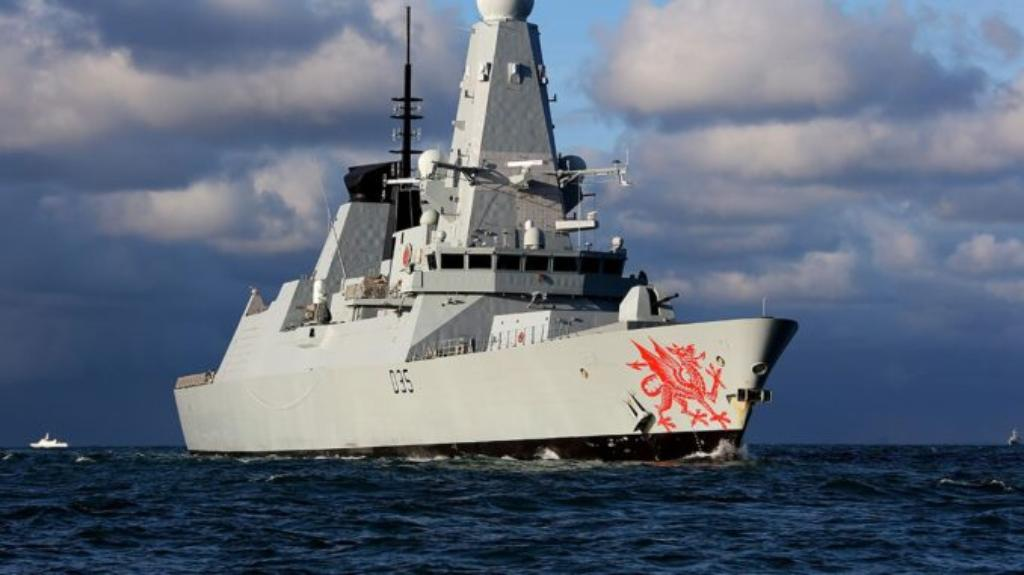Warship: (168, 0, 812, 466)
